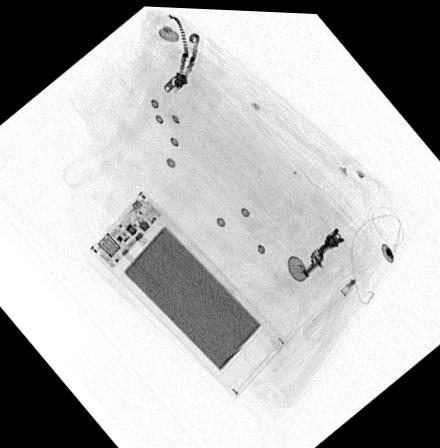Powerbank: (86, 185, 288, 395)
